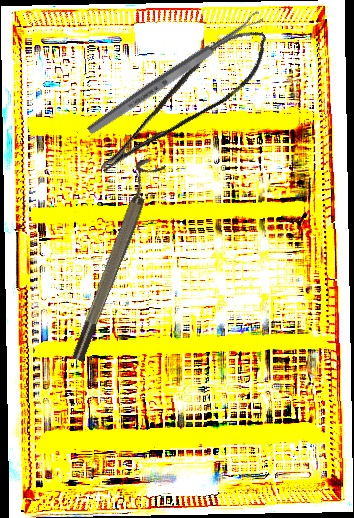Fixation Ring: (60, 155, 166, 364)
Micro Scissor: (78, 18, 284, 179)
Surgical Spoon: (85, 9, 265, 138)
